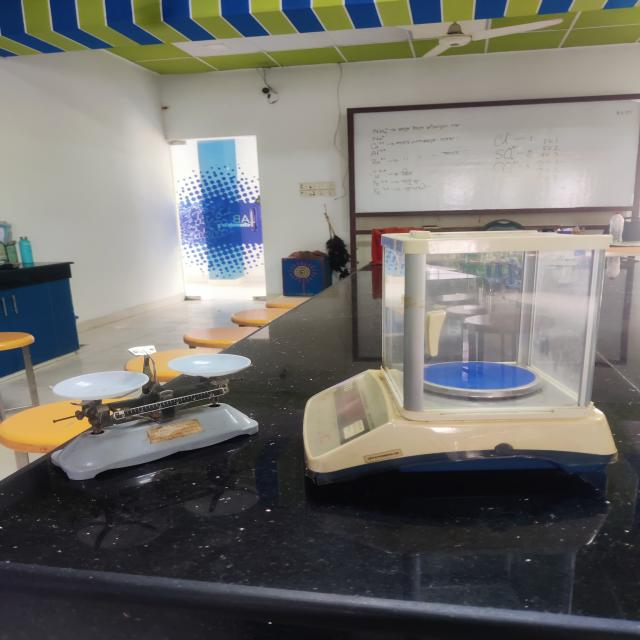Mechanical_Balance_Scale: (38, 342, 271, 492)
Precision_Weight_Scale: (287, 204, 627, 485)
